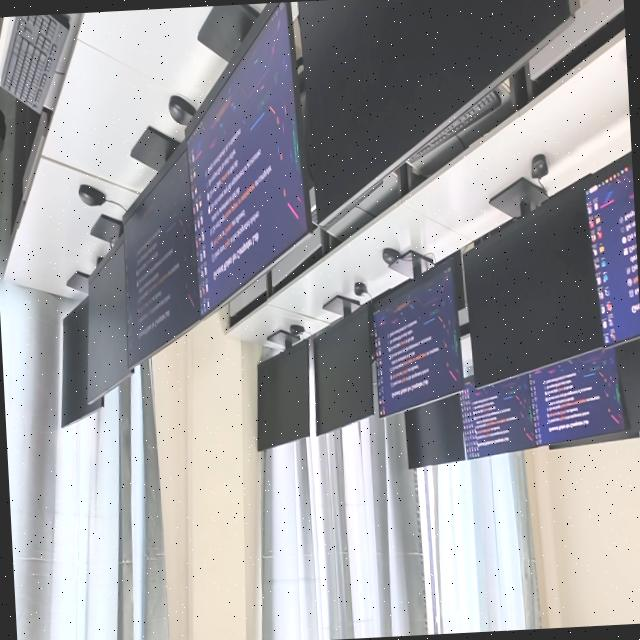Keyboard: (411, 86, 500, 161), (0, 14, 67, 112)
Monitor: (299, 0, 577, 222), (184, 1, 309, 315), (462, 174, 602, 385), (122, 145, 199, 366), (372, 258, 462, 416), (585, 166, 640, 345), (529, 347, 624, 444), (311, 301, 374, 434), (85, 235, 129, 402), (459, 374, 536, 458), (256, 339, 308, 450), (61, 297, 102, 426), (403, 395, 463, 468), (614, 337, 640, 430), (548, 430, 639, 449)
Mouse: (168, 95, 195, 125), (78, 184, 105, 205), (530, 154, 547, 179), (382, 247, 400, 266), (353, 282, 368, 296), (289, 324, 304, 337)
